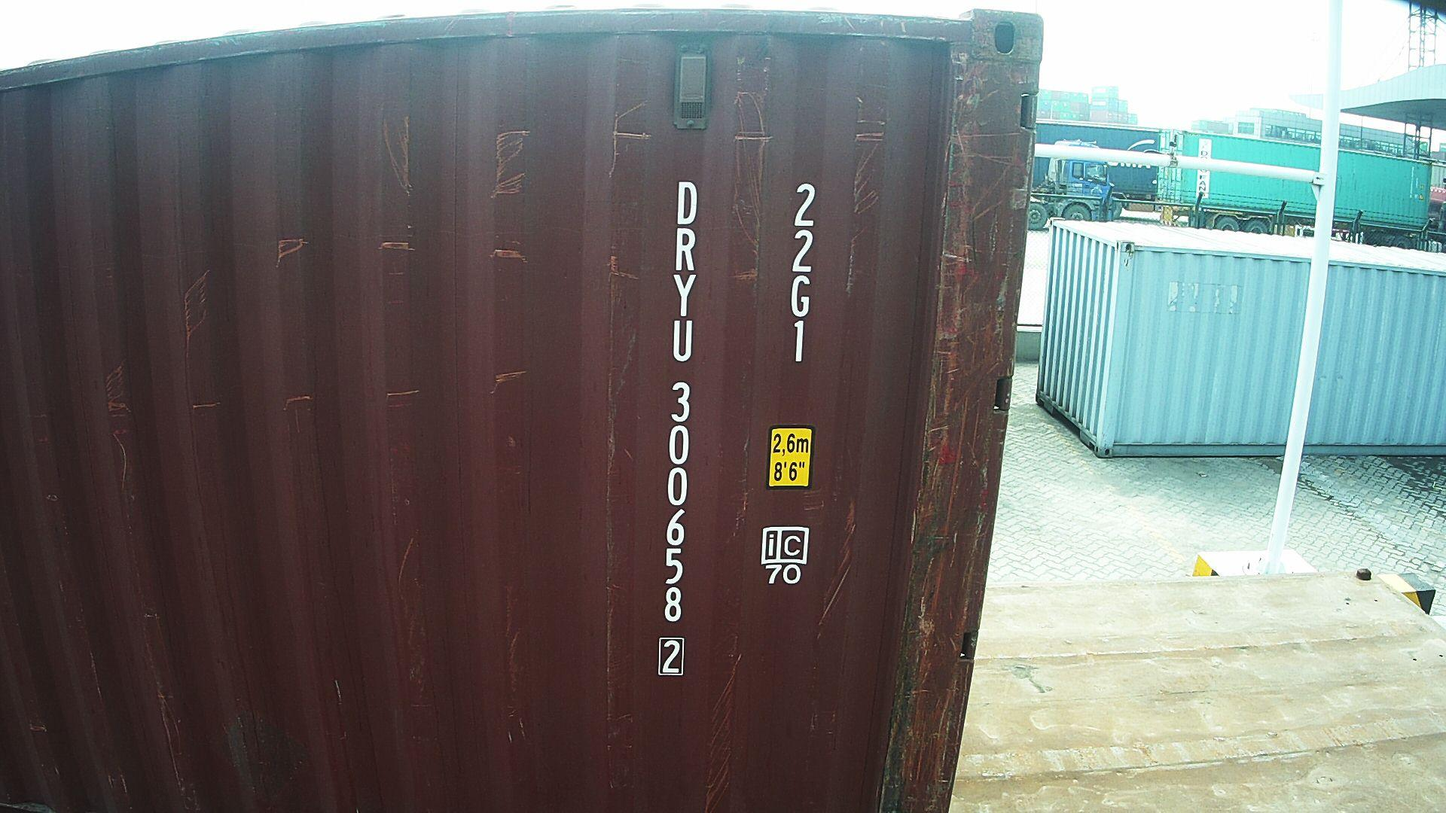container-numbers: (651, 173, 704, 683), (782, 178, 822, 370)
